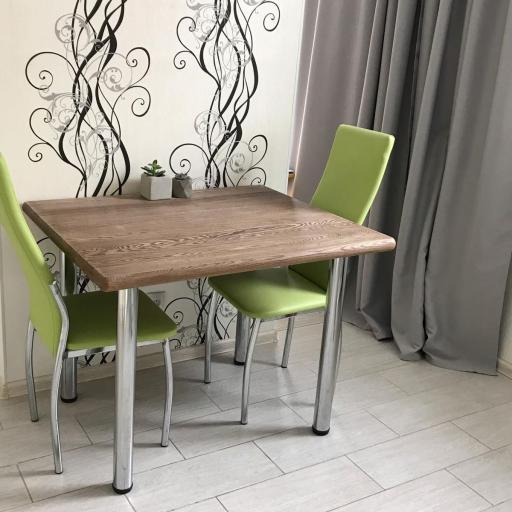bottle: (204, 125, 394, 424), (0, 154, 177, 474)
phone: (23, 186, 395, 492)
